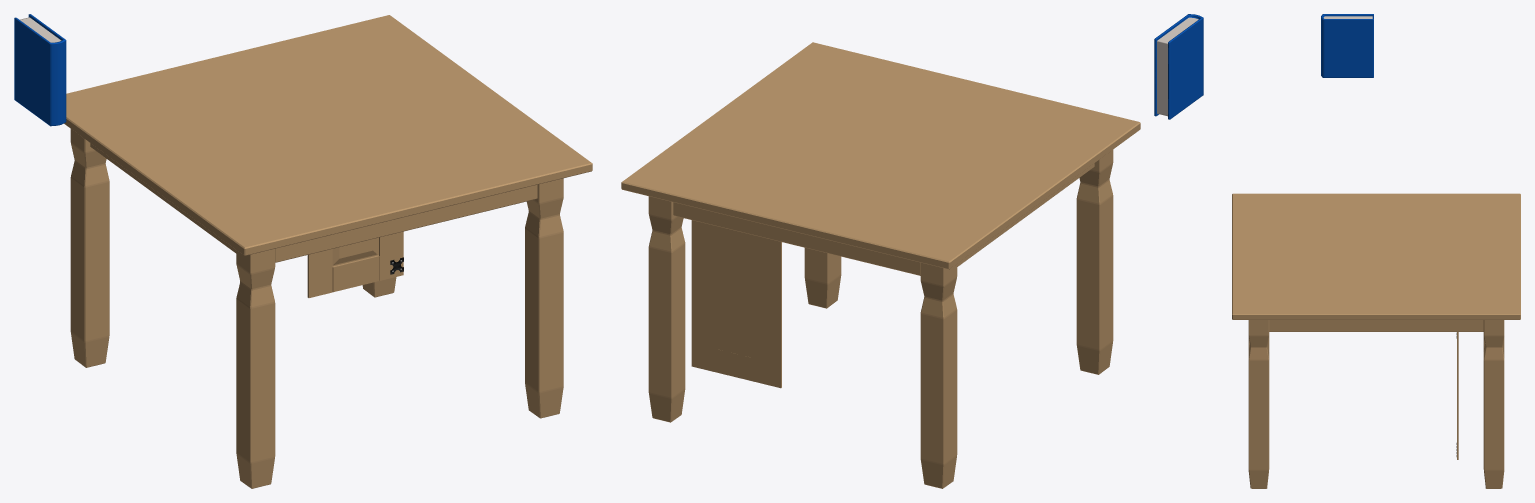
The model's file is table.fbx.
3 views of the same model, side by side, from view 1: azimuth 30°, elevation 25°; view 2: azimuth 150°, elevation 25°; view 3: azimuth 270°, elevation 25° (orthographic). The views are drawn at different scales.
Visible parts, largest first — view 1: Cube.003, Cube.006, Corona_Seconique Tall Bookcase.001; view 2: Cube.003, Corona_Seconique Tall Bookcase.001, Cube.006; view 3: Cube.003, Cube.006.
Boxes of the visible parts, <box> form: Cube.003: <box>64,15,592,488</box>; Cube.006: <box>14,14,66,126</box>; Corona_Seconique Tall Bookcase.001: <box>307,231,403,297</box>; Cube.003: <box>621,42,1140,488</box>; Corona_Seconique Tall Bookcase.001: <box>691,220,781,388</box>; Cube.006: <box>1154,14,1203,119</box>; Cube.003: <box>1232,193,1520,488</box>; Cube.006: <box>1321,14,1373,77</box>.
Size of the model in its own units: 151 by 134 by 111.
